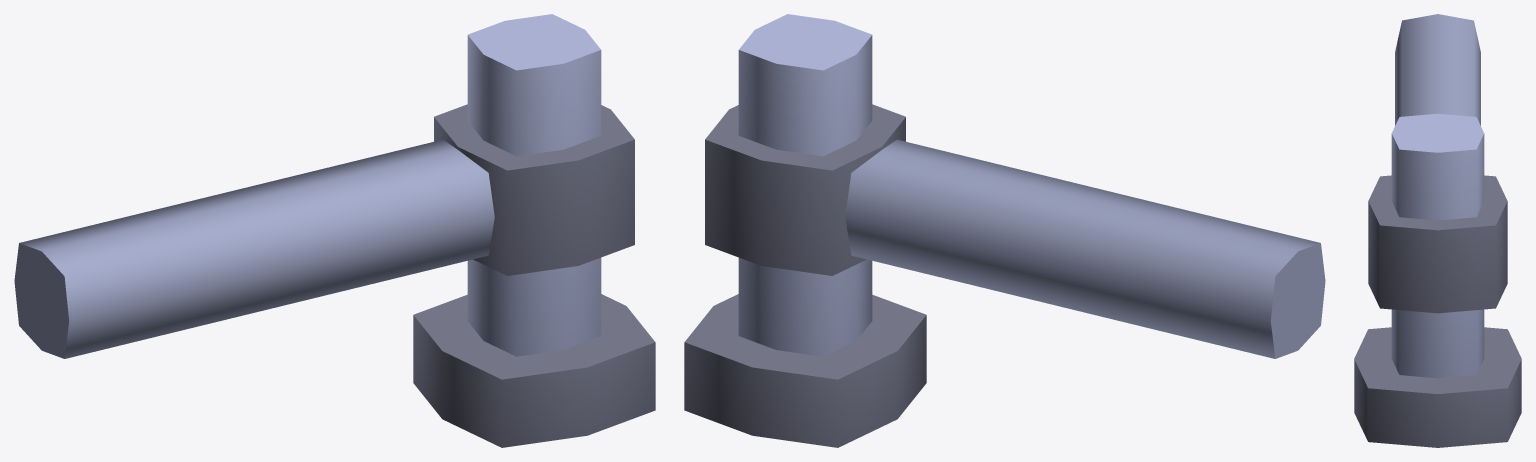
File: fence.obj
The picture shows the model from 3 angles, left to right: view 1: azimuth 30°, elevation 25°; view 2: azimuth 150°, elevation 25°; view 3: azimuth 270°, elevation 25°; orthographic projection. The views are drawn at different scales.
Parts seen in each view (by area): view 1: fence; view 2: fence; view 3: fence.
Part boxes in pixels (bbox=[...]): fence: bbox=[14, 14, 655, 447]; fence: bbox=[684, 14, 1325, 447]; fence: bbox=[1354, 14, 1521, 447].
Bounding box in the file's own units: 0.5935 × 0.3439 × 0.187.
1 material, 1 textured.
